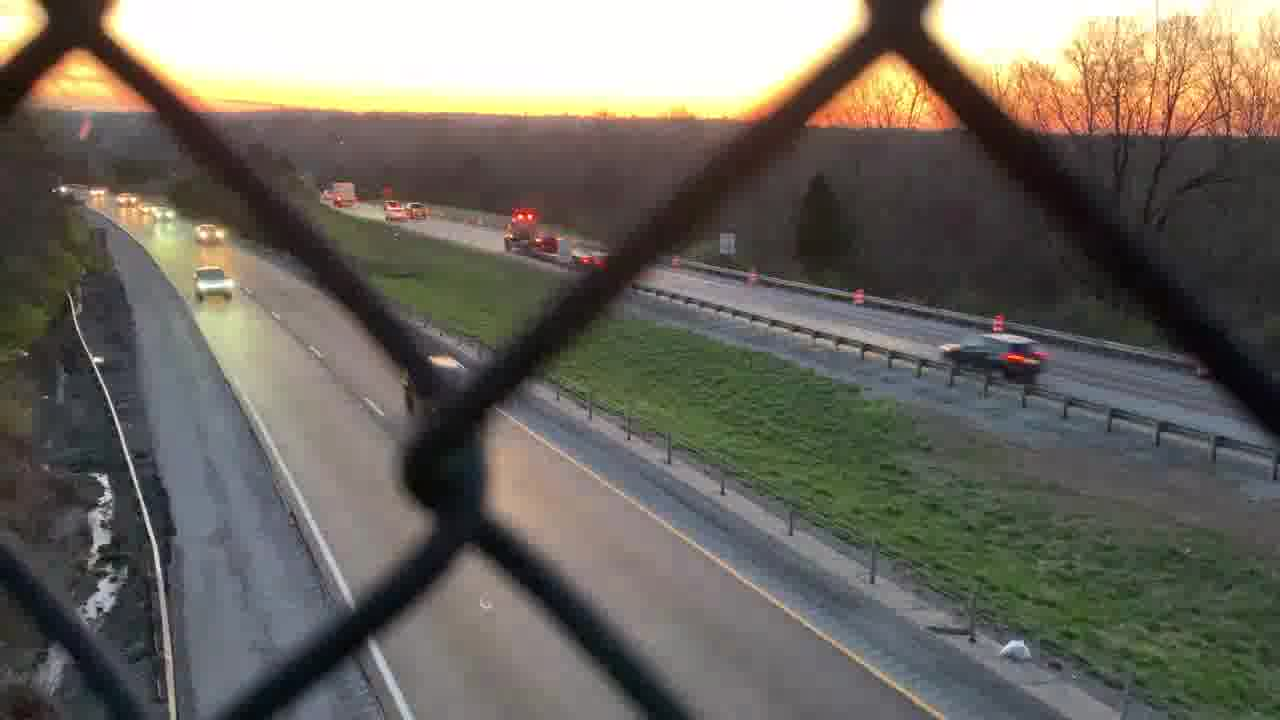heavyTruck: (499, 205, 632, 278)
largeCar: (939, 333, 1047, 382)
